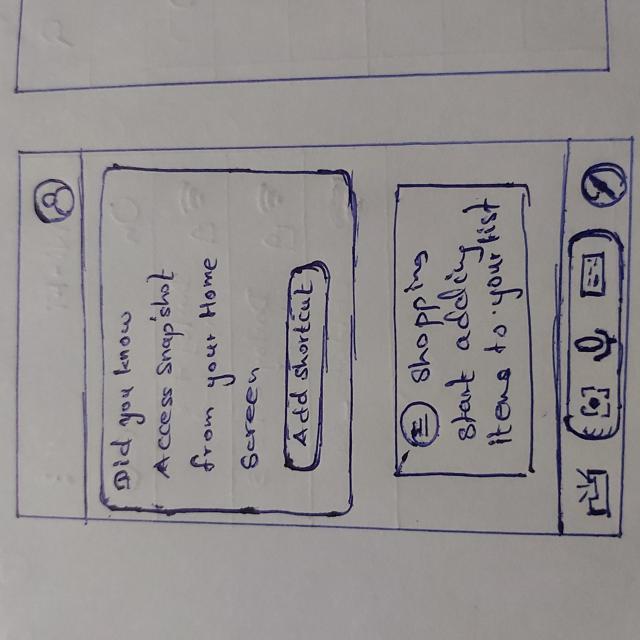AppBar: (14, 148, 88, 517)
BottomNavBar: (560, 140, 633, 537)
BottomNavItems: (564, 142, 632, 224), (557, 450, 619, 536), (557, 322, 625, 376), (568, 246, 620, 315), (560, 379, 623, 434)
CardView: (96, 162, 361, 519)
Icon: (575, 466, 614, 525), (581, 161, 627, 208), (31, 178, 76, 226), (570, 326, 616, 366), (578, 249, 612, 302), (401, 402, 439, 449), (581, 383, 612, 421)
Layout: (389, 177, 541, 482)
MainLayout: (10, 139, 640, 542)
TextView: (472, 199, 521, 451), (446, 246, 482, 446), (146, 269, 176, 483), (193, 255, 221, 470), (404, 250, 437, 389), (111, 308, 134, 493), (239, 367, 259, 470)
